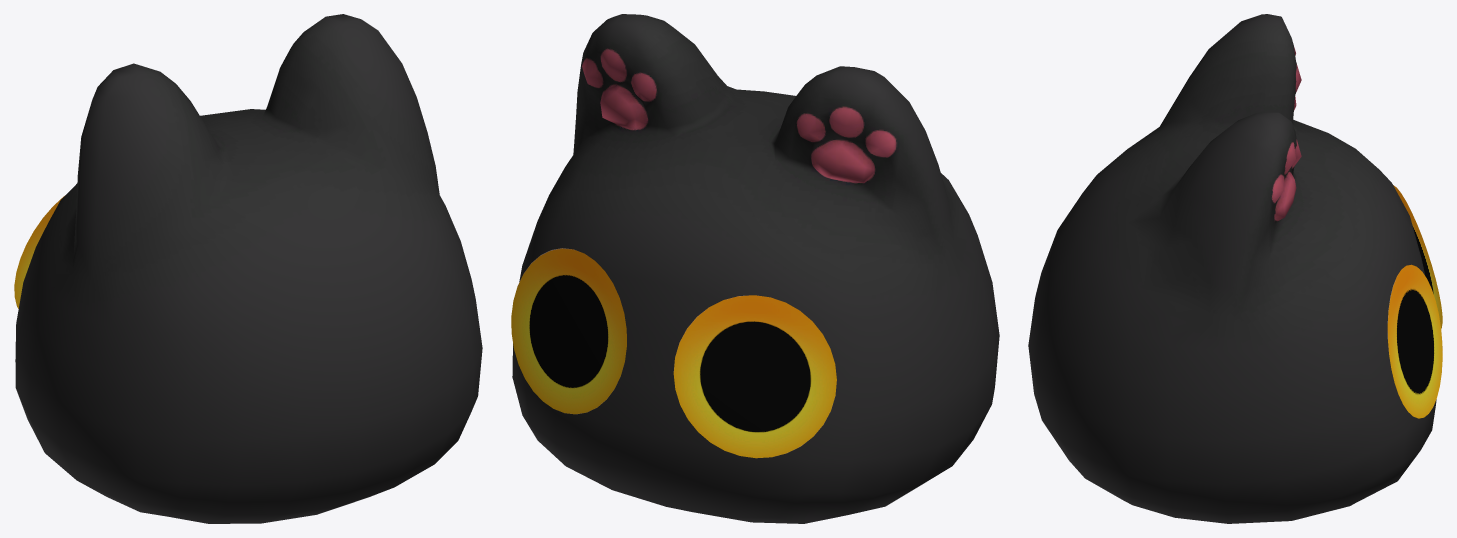
Rendered from IG_Helmat_LV2_Black.fbx.
3 renders of one model, left to right at view 1: azimuth 30°, elevation 25°; view 2: azimuth 150°, elevation 25°; view 3: azimuth 270°, elevation 25°, orthographic. The views are drawn at different scales.
Visible parts, largest first — view 1: SM_BlackBall; view 2: SM_BlackBall; view 3: SM_BlackBall.
Boxes of the visible parts, box(x1,y1,x2,y2) form: SM_BlackBall: box(14, 14, 482, 523); SM_BlackBall: box(511, 14, 999, 523); SM_BlackBall: box(1028, 14, 1442, 523).
Bounding box in the file's own units: 0.7257 × 0.7447 × 0.6735.
